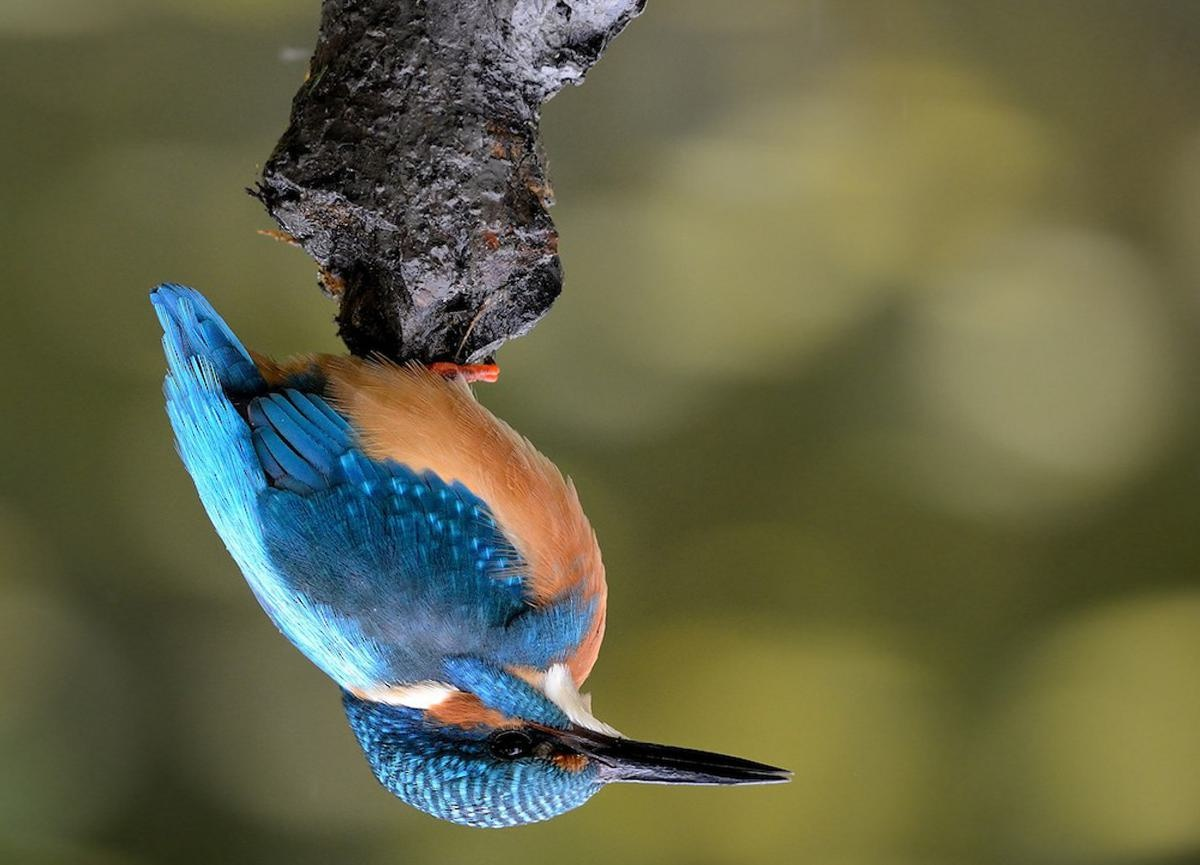kingfisher: (75, 250, 795, 839)
